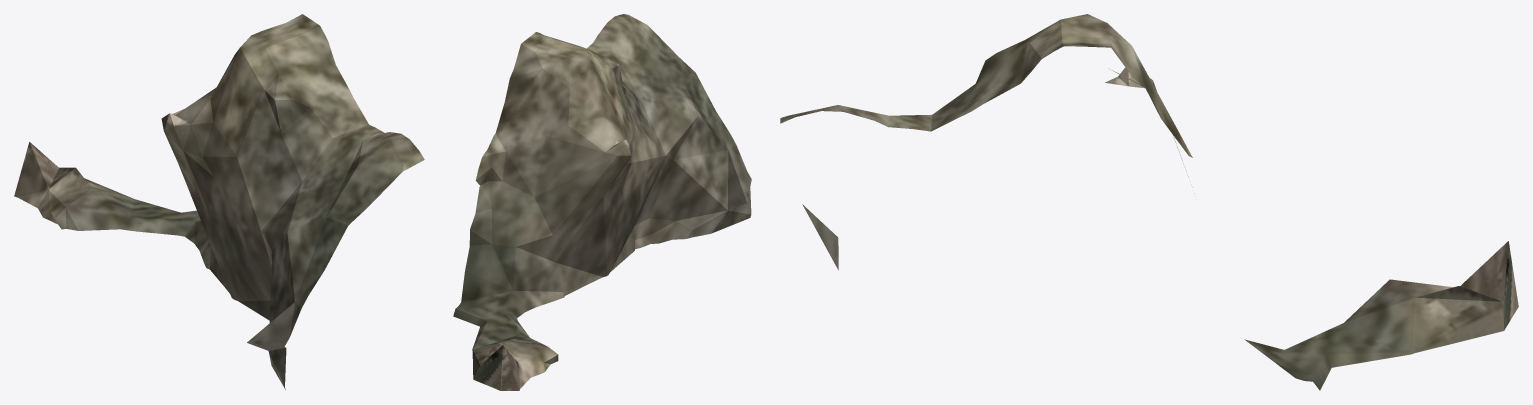
3 views of the same model, side by side, from view 1: azimuth 30°, elevation 25°; view 2: azimuth 150°, elevation 25°; view 3: azimuth 270°, elevation 25° (orthographic). The views are drawn at different scales.
Bounding box in the file's own units: 0.8439 × 1.31 × 2.55.
Materials: 1 (1 with a texture image).
